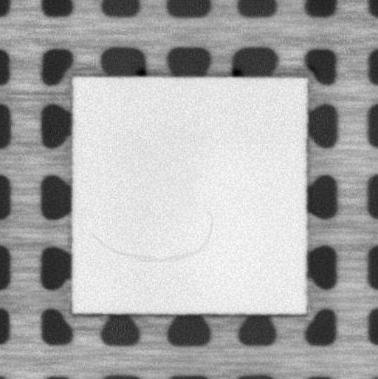DIE_CRACK: (92, 210, 214, 264)
